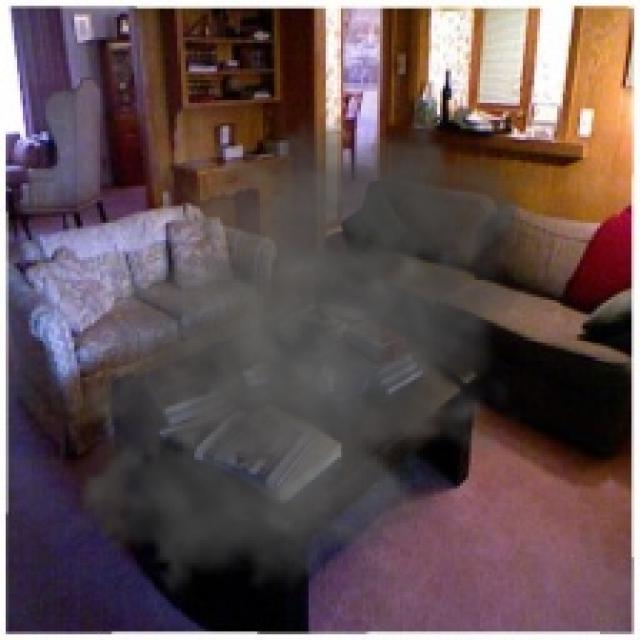smoke: (40, 77, 560, 629)
